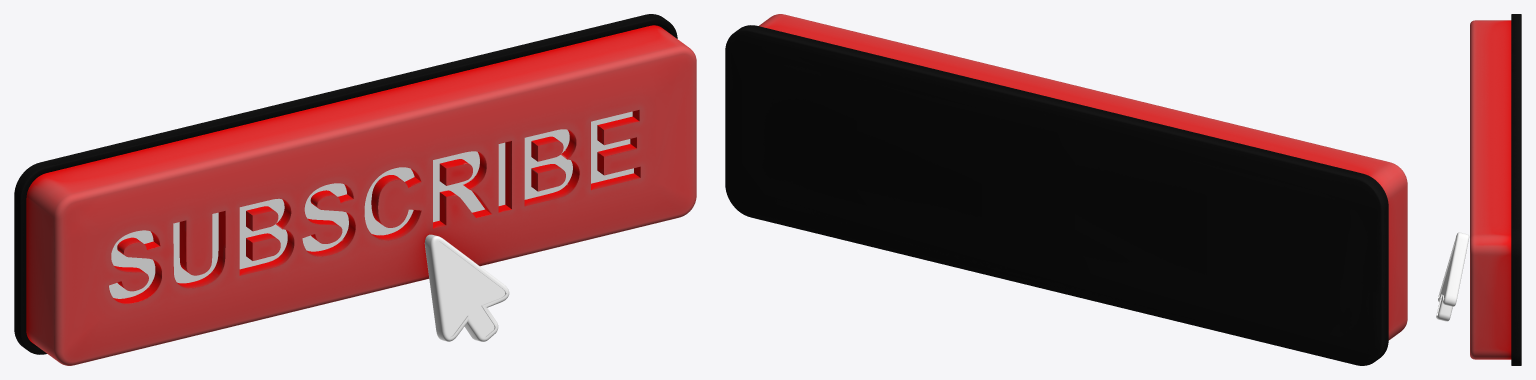
The model's file is subscribe_button.glb.
3 renders of one model, left to right at view 1: azimuth 30°, elevation 25°; view 2: azimuth 150°, elevation 25°; view 3: azimuth 270°, elevation 25°, orthographic. The views are drawn at different scales.
Parts seen in each view (by area): view 1: SUBSCRIBE; view 2: SUBSCRIBE; view 3: SUBSCRIBE.
Boxes of the visible parts, x1,y1,x2,y2 form: SUBSCRIBE: (14,14,696,365); SUBSCRIBE: (725,14,1407,365); SUBSCRIBE: (1436,14,1521,365).
Bounding box in the file's own units: 6.73 × 2.29 × 1.05.
Materials: 1 (1 with a texture image).
